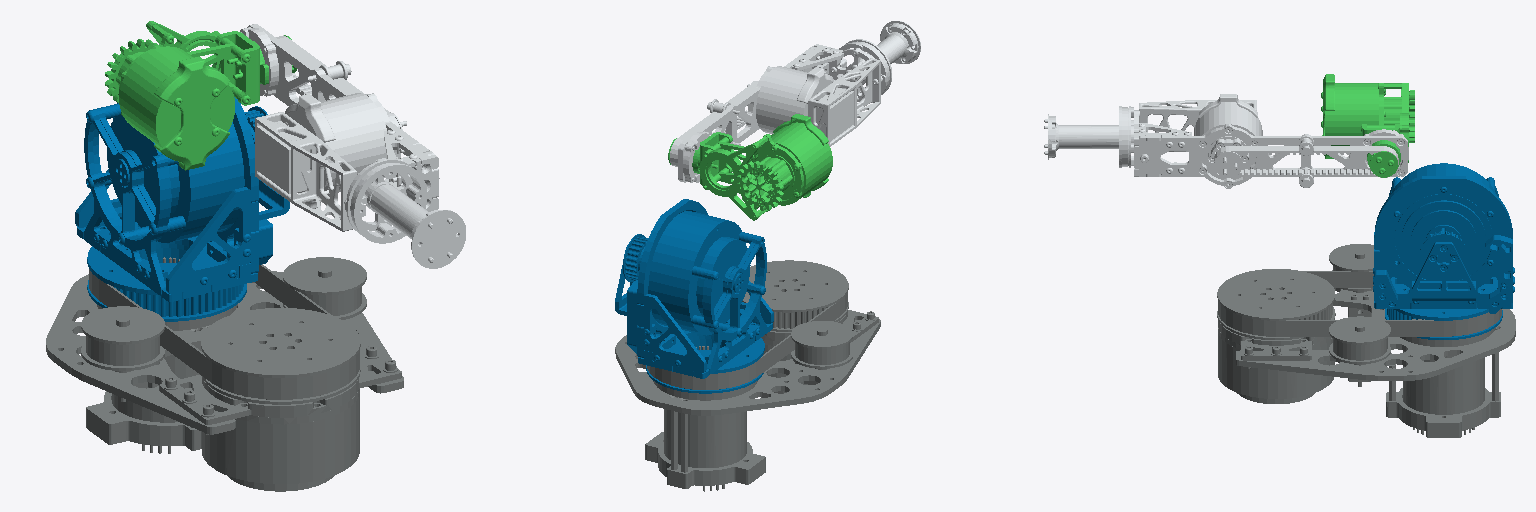
URDF robot description (new_hj_arm):
<?xml version="1.0" encoding="utf-8"?>
<!-- This URDF was automatically created by SolidWorks to URDF Exporter! Originally created by Stephen Brawner (brawner@gmail.com) 
     Commit Version: 1.6.0-4-g7f85cfe  Build Version: 1.6.7995.38578
     For more information, please see http://wiki.ros.org/sw_urdf_exporter -->
<robot
  name="new_hj_arm">
  <link name="world"/>
  <joint name="world_to_base_link" type="fixed">
    <origin xyz="0 0 0" rpy="0 0 0"/>
    <parent link="world"/>
    <child link="base_link"/>
  </joint>
  <link
    name="base_link">
    <inertial>
      <origin
        xyz="4.16700669638183E-06 -0.0794009240803317 -0.0408298312832621"
        rpy="0 0 0" />
      <mass
        value="2.86688620352418" />
      <inertia
        ixx="0.00223352537619485"
        ixy="-5.87508404893798E-07"
        ixz="-2.29906670081261E-12"
        iyy="0.0022625703463343"
        iyz="2.43071271778287E-08"
        izz="0.00345618523186513" />
    </inertial>
    <visual>
      <origin
        xyz="0 0 0"
        rpy="0 0 0" />
      <geometry>
        <mesh
          filename="package://new_hj_arm/meshes/base_link.STL" />
      </geometry>
      <material
        name="">
        <color
          rgba="0.529411764705882 0.549019607843137 0.549019607843137 1" />
      </material>
    </visual>
    <collision>
      <origin
        xyz="0 0 0"
        rpy="0 0 0" />
      <geometry>
        <mesh
          filename="package://new_hj_arm/meshes/base_link.STL" />
      </geometry>
    </collision>
  </link>
  <link
    name="Link1">
    <inertial>
      <origin
        xyz="0.00797090591062298 0.000282545554052577 0.0480604504227807"
        rpy="0 0 0" />
      <mass
        value="1.43755902347823" />
      <inertia
        ixx="0.00152283746881714"
        ixy="-1.93557146662115E-10"
        ixz="-5.34528316583207E-06"
        iyy="0.0010531312989002"
        iyz="-3.18188661212389E-08"
        izz="0.00124552449316009" />
    </inertial>
    <visual>
      <origin
        xyz="0 0 0"
        rpy="0 0 0" />
      <geometry>
        <mesh
          filename="package://new_hj_arm/meshes/Link1.STL" />
      </geometry>
      <material
        name="">
        <color
          rgba="0.0392156862745098 0.490196078431373 0.709803921568627 1" />
      </material>
    </visual>
    <collision>
      <origin
        xyz="0 0 0"
        rpy="0 0 0" />
      <geometry>
        <mesh
          filename="package://new_hj_arm/meshes/Link1.STL" />
      </geometry>
    </collision>
  </link>
  <joint
    name="J1"
    type="revolute">
    <origin
      xyz="0 0 0"
      rpy="0 0 0" />
    <parent
      link="base_link" />
    <child
      link="Link1" />
    <axis
      xyz="0 0 -1" />
    <limit
      lower="-1.57"
      upper="1.57"
      effort="0"
      velocity="0" />
  </joint>
  <link
    name="Link2">
    <inertial>
      <origin
        xyz="-0.26743315847327 -0.0298568267416893 -0.0347216558427004"
        rpy="0 0 0" />
      <mass
        value="1.22216187668541" />
      <inertia
        ixx="0.000526728623119653"
        ixy="-4.95569456536353E-06"
        ixz="5.35124786824887E-06"
        iyy="0.00221427485504025"
        iyz="1.05141305311693E-08"
        izz="0.00243683581816964" />
    </inertial>
    <visual>
      <origin
        xyz="0 0 0"
        rpy="0 0 0" />
      <geometry>
        <mesh
          filename="package://new_hj_arm/meshes/Link2.STL" />
      </geometry>
      <material
        name="">
        <color
          rgba="0.298039215686275 0.298039215686275 0.298039215686275 1" />
      </material>
    </visual>
    <collision>
      <origin
        xyz="0 0 0"
        rpy="0 0 0" />
      <geometry>
        <mesh
          filename="package://new_hj_arm/meshes/Link2.STL" />
      </geometry>
    </collision>
  </link>
  <joint
    name="J2"
    type="revolute">
    <origin
      xyz="-0.00714999999999977 0 0.0665000000000032"
      rpy="-1.5707963267949 0 1.5707963267949" />
    <parent
      link="Link1" />
    <child
      link="Link2" />
    <axis
      xyz="0 0 1" />
    <limit
      lower="0"
      upper="3.14"
      effort="0"
      velocity="0" />
  </joint>
  <link
    name="Link3">
    <inertial>
      <origin
        xyz="0.113684624557948 0.0240009505728931 0.00280474832804146"
        rpy="0 0 0" />
      <mass
        value="1.08853156644058" />
      <inertia
        ixx="0.000433664423280121"
        ixy="-2.30950082100224E-07"
        ixz="-1.19178135566858E-05"
        iyy="0.000442953685299449"
        iyz="4.28660954580612E-08"
        izz="0.000443431762981975" />
    </inertial>
    <visual>
      <origin
        xyz="0 0 0"
        rpy="0 0 0" />
      <geometry>
        <mesh
          filename="package://new_hj_arm/meshes/Link3.STL" />
      </geometry>
      <material
        name="">
        <color
          rgba="1 1 1 1" />
      </material>
    </visual>
    <collision>
      <origin
        xyz="0 0 0"
        rpy="0 0 0" />
      <geometry>
        <mesh
          filename="package://new_hj_arm/meshes/Link3.STL" />
      </geometry>
    </collision>
  </link>
  <joint
    name="J3"
    type="revolute">
    <origin
      xyz="-0.359999999999999 0 0.0291500000000062"
      rpy="0 0 -1.57079632679488" />
    <parent
      link="Link2" />
    <child
      link="Link3" />
    <axis
      xyz="0 0 -1" />
    <limit
      lower="0"
      upper="3.14"
      effort="0"
      velocity="0" />
  </joint>
  <link
    name="Link4">
    <inertial>
      <origin
        xyz="-0.0149738325368042 2.31717538357046E-06 0.145136725371915"
        rpy="0 0 0" />
      <mass
        value="0.616504910180926" />
      <inertia
        ixx="0.000511697593438133"
        ixy="1.41099830748463E-08"
        ixz="-4.32931649598087E-08"
        iyy="0.000485390300822099"
        iyz="-4.40119577334278E-07"
        izz="0.000158586296116353" />
    </inertial>
    <visual>
      <origin
        xyz="0 0 0"
        rpy="0 0 0" />
      <geometry>
        <mesh
          filename="package://new_hj_arm/meshes/Link4.STL" />
      </geometry>
      <material
        name="">
        <color
          rgba="0.898039215686275 0.917647058823529 0.929411764705882 1" />
      </material>
    </visual>
    <collision>
      <origin
        xyz="0 0 0"
        rpy="0 0 0" />
      <geometry>
        <mesh
          filename="package://new_hj_arm/meshes/Link4.STL" />
      </geometry>
    </collision>
  </link>
  <joint
    name="J4"
    type="revolute">
    <origin
      xyz="0.0800000000000044 0.310000000000002 -0.0391500000000076"
      rpy="1.5707963267949 -1.5707963267949 0" />
    <parent
      link="Link3" />
    <child
      link="Link4" />
    <axis
      xyz="0 0 1" />
    <limit
      lower="-1.57"
      upper="1.57"
      effort="0"
      velocity="0" />
  </joint>
  <link
    name="Link5">
    <inertial>
      <origin
        xyz="5.73658754056128E-05 -0.0172929111633772 0.0272790476313841"
        rpy="0 0 0" />
      <mass
        value="0.438594887761117" />
      <inertia
        ixx="0.00013434059183951"
        ixy="1.26941351716971E-13"
        ixz="9.79840030602264E-13"
        iyy="0.000156693109015805"
        iyz="2.57203003351952E-08"
        izz="0.000137953754169807" />
    </inertial>
    <visual>
      <origin
        xyz="0 0 0"
        rpy="0 0 0" />
      <geometry>
        <mesh
          filename="package://new_hj_arm/meshes/Link5.STL" />
      </geometry>
      <material
        name="">
        <color
          rgba="0.341176470588235 0.83921568627451 0.411764705882353 1" />
      </material>
    </visual>
    <collision>
      <origin
        xyz="0 0 0"
        rpy="0 0 0" />
      <geometry>
        <mesh
          filename="package://new_hj_arm/meshes/Link5.STL" />
      </geometry>
    </collision>
  </link>
  <joint
    name="J5"
    type="revolute">
    <origin
      xyz="0 0 0"
      rpy="-1.5707963267949 0 -1.5707963267949" />
    <parent
      link="Link4" />
    <child
      link="Link5" />
    <axis
      xyz="0 0 -1" />
    <limit
      lower="-1.57"
      upper="1.57"
      effort="0"
      velocity="0" />
  </joint>
  <link
    name="Link6">
    <inertial>
      <origin
        xyz="-0.00127413370925963 -0.000463299260714411 0.0878127564203811"
        rpy="0 0 0" />
      <mass
        value="0.624567971061492" />
      <inertia
        ixx="0.000286781766280947"
        ixy="3.06484650489161E-07"
        ixz="-8.87084529519862E-09"
        iyy="0.000185740348109051"
        iyz="-1.89929566308309E-09"
        izz="0.000288461409785261" />
    </inertial>
    <visual>
      <origin
        xyz="0 0 0"
        rpy="0 0 0" />
      <geometry>
        <mesh
          filename="package://new_hj_arm/meshes/Link6.STL" />
      </geometry>
      <material
        name="">
        <color
          rgba="0.529411764705882 0.549019607843137 0.549019607843137 1" />
      </material>
    </visual>
    <collision>
      <origin
        xyz="0 0 0"
        rpy="0 0 0" />
      <geometry>
        <mesh
          filename="package://new_hj_arm/meshes/Link6.STL" />
      </geometry>
    </collision>
  </link>
  <joint
    name="J6"
    type="revolute">
    <origin
      xyz="0 0 0"
      rpy="-1.5707963267949 0 0" />
    <parent
      link="Link5" />
    <child
      link="Link6" />
    <axis
      xyz="0 0 -1" />
    <limit
      lower="-1.57"
      upper="1.57"
      effort="0"
      velocity="0" />
  </joint>
</robot>

--- Facts derived from the render (not from the file) ---
3 views of the same robot in one strip: view 1: azimuth 30°, elevation 25°; view 2: azimuth 150°, elevation 25°; view 3: azimuth 270°, elevation 25° (orthographic).
Model new_hj_arm with 8 links and 7 joints (6 revolute, 1 fixed), rooted at world, posed every joint at zero.
Links seen in each view (by area): view 1: base_link, Link1, Link4, Link5; view 2: base_link, Link1, Link4, Link5; view 3: base_link, Link1, Link4, Link5.
Link boxes in pixels (x1,y1,x2,y2): base_link: (46,257,403,491); Link1: (75,97,289,321); Link4: (240,24,465,268); Link5: (105,21,296,170); base_link: (615,260,880,491); Link1: (615,199,773,393); Link4: (670,21,920,182); Link5: (668,114,832,220); base_link: (1217,244,1515,437); Link1: (1373,163,1514,339); Link4: (1044,94,1408,188); Link5: (1321,74,1414,177).
Bounding box of the posed robot: 0.2 × 0.394 × 0.3017 m (x, y, z).
Meshes: 7 distinct files referenced, 4 mesh visuals loaded (4 binary STL); not drawn: 3 (reference not matched to a file when rendering).
